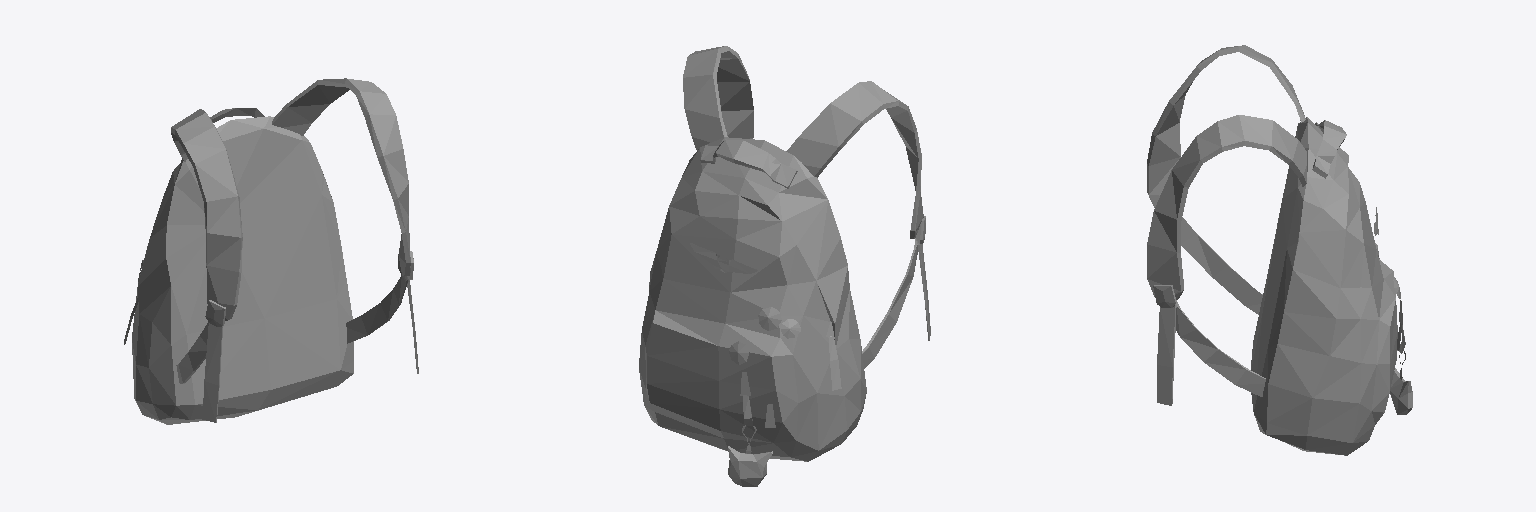
The model's file is EllieBackpackLowPoly.obj.
3 renders of one model, left to right at view 1: azimuth 30°, elevation 25°; view 2: azimuth 150°, elevation 25°; view 3: azimuth 270°, elevation 25°, orthographic.
Parts seen in each view (by area): view 1: lowpoly_Mesh1; view 2: lowpoly_Mesh1; view 3: lowpoly_Mesh1.
Boxes of the visible parts, box(x1,y1,x2,y2) form: lowpoly_Mesh1: box(124, 78, 418, 424); lowpoly_Mesh1: box(639, 46, 930, 486); lowpoly_Mesh1: box(1147, 45, 1412, 455).
Bounding box in the file's own units: 0.2883 × 0.4497 × 0.3089.